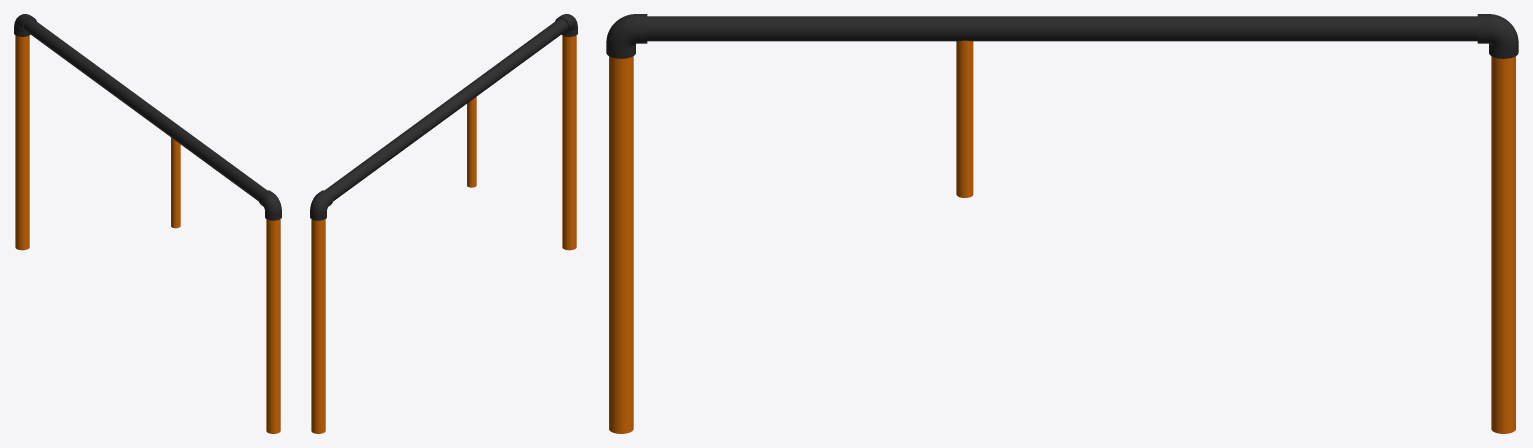
The model's file is gate.dae.
3 views of the same model, side by side, from view 1: azimuth 30°, elevation 25°; view 2: azimuth 150°, elevation 25°; view 3: azimuth 270°, elevation 25° (orthographic). The views are drawn at different scales.
Parts seen in each view (by area): view 1: Gate Obstacle.004, Gate Obstacle, Gate Obstacle.002, Gate Obstacle.005, Gate Obstacle.003, Gate Obstacle.001; view 2: Gate Obstacle.004, Gate Obstacle.002, Gate Obstacle, Gate Obstacle.005, Gate Obstacle.001, Gate Obstacle.003; view 3: Gate Obstacle.004, Gate Obstacle.002, Gate Obstacle, Gate Obstacle.005, Gate Obstacle.003, Gate Obstacle.001.
Part boxes in pixels (x1,y1,x2,y2): Gate Obstacle.004: (23, 18, 266, 201); Gate Obstacle: (15, 35, 29, 250); Gate Obstacle.002: (266, 219, 280, 433); Gate Obstacle.005: (171, 137, 180, 228); Gate Obstacle.003: (258, 190, 281, 220); Gate Obstacle.001: (14, 14, 36, 36); Gate Obstacle.004: (325, 18, 567, 201); Gate Obstacle.002: (562, 35, 576, 250); Gate Obstacle: (311, 219, 325, 433); Gate Obstacle.005: (467, 97, 476, 187); Gate Obstacle.001: (310, 190, 333, 220); Gate Obstacle.003: (555, 14, 577, 36); Gate Obstacle.004: (647, 16, 1477, 41); Gate Obstacle.002: (609, 56, 633, 433); Gate Obstacle: (1491, 56, 1515, 433); Gate Obstacle.005: (956, 40, 973, 197); Gate Obstacle.003: (606, 14, 647, 58); Gate Obstacle.001: (1477, 14, 1518, 58).
Size of the model in its own units: 0.1064 by 3.26 by 1.63.
